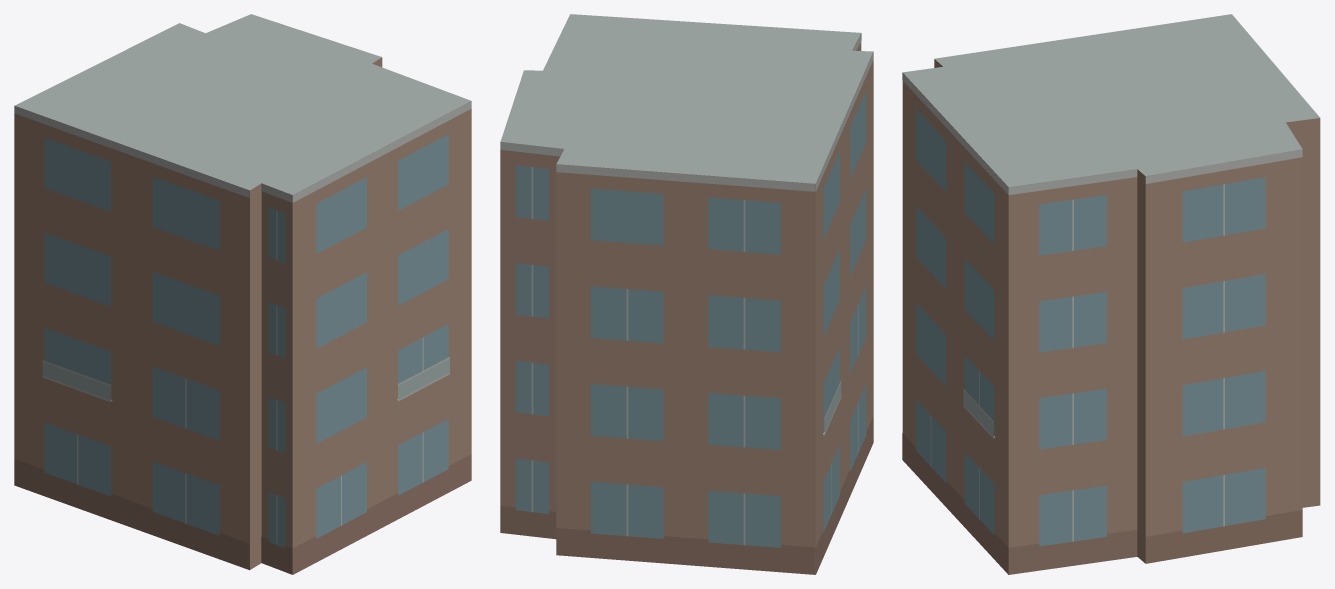
Rendered from survey-upis-32961418.glb.
The picture shows the model from 3 angles, left to right: view 1: azimuth 30°, elevation 25°; view 2: azimuth 150°, elevation 25°; view 3: azimuth 270°, elevation 25°; orthographic projection. The views are drawn at different scales.
Visible parts, largest first — view 1: survey-upis-32961418.tmp; view 2: survey-upis-32961418.tmp; view 3: survey-upis-32961418.tmp.
Part boxes in pixels (x1=…): survey-upis-32961418.tmp: x1=14, y1=14, x2=471, y2=574; survey-upis-32961418.tmp: x1=500, y1=14, x2=873, y2=574; survey-upis-32961418.tmp: x1=902, y1=14, x2=1320, y2=574.
Size of the model in its own units: 11.42 by 11.91 by 11.64.
